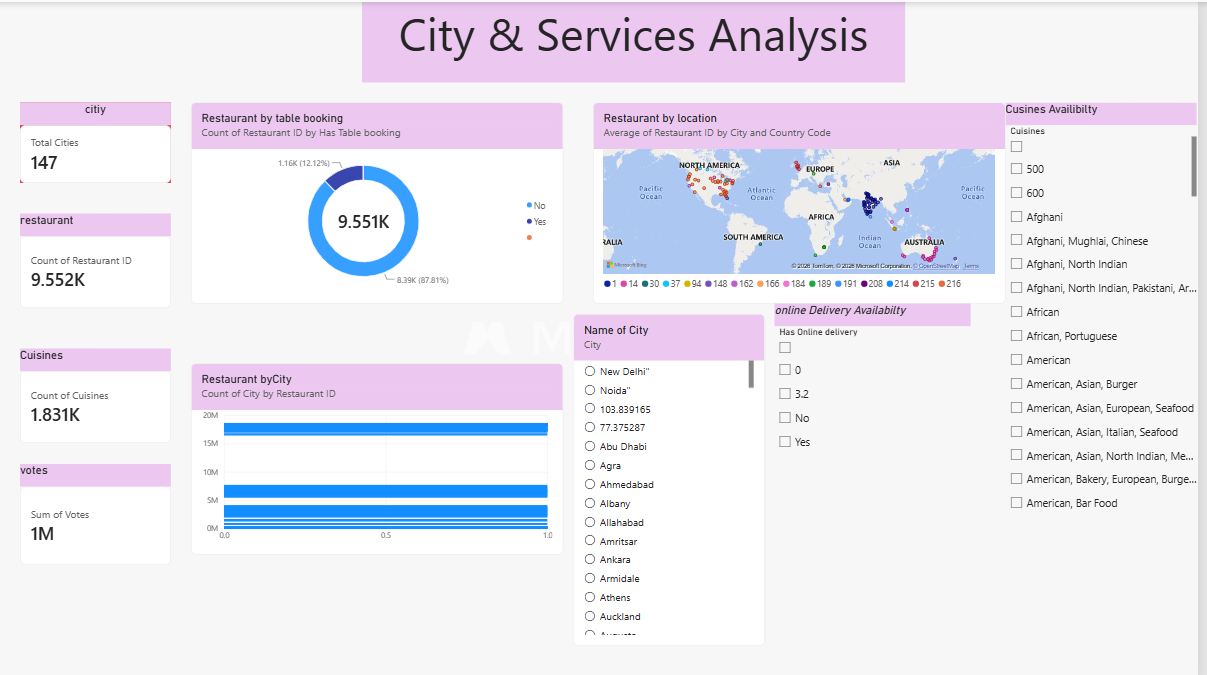

This screenshot's page, from the dashboard's own definition file:
{"tool":"powerbi","page":{"name":"City & Services Analysis","canvas":[1920,1080],"ordinal":2},"visuals":[{"type":"textbox","box":[592,0,864,128],"z":0},{"type":"cardVisual","title":"citiy","fields":{"Data":["zomato.Total Cities"]},"box":[48,160,240,128],"z":1000},{"type":"cardVisual","title":"restaurant","fields":{"Data":["Count(zomato.Restaurant ID)"]},"box":[48,336,240,150],"z":2000},{"type":"cardVisual","title":"Cuisines","fields":{"Data":["Count(zomato.Cuisines)"]},"box":[48,551,240,150],"z":3000},{"type":"donutChart","title":" Restaurant by table booking","fields":{"Category":["zomato.Has Table booking"],"Y":["CountNonNull(zomato.Restaurant ID)"]},"box":[320,160,592,320],"z":4000},{"type":"cardVisual","title":"votes","fields":{"Data":["Sum(zomato.Votes)"]},"box":[48,736,240,160],"z":5000},{"type":"map","title":" Restaurant by location","fields":{"Category":["zomato.City"],"Y":["Avg(zomato.Restaurant ID)"],"Series":["zomato.Country Code"]},"box":[960,160,656,320],"z":6000},{"type":"clusteredBarChart","title":"Restaurant byCity","fields":{"Category":["zomato.Restaurant ID"],"Y":["CountNonNull(zomato.City)"]},"box":[320,576,592,304],"z":7000},{"type":"listSlicer","title":" Name of City","fields":{"Values":["zomato.City"]},"box":[928,496,304,528],"z":8000},{"type":"slicer","title":"online Delivery Availabilty","fields":{"Values":["zomato.Has Online delivery"]},"box":[1248,480,312,408],"z":9000},{"type":"slicer","title":" Cusines Availibilty ","fields":{"Values":["zomato.Cuisines"]},"box":[1616,160,304,656],"z":10000}]}

Visuals, with their boxes in screenshot pixels (x1, y1, x2, y2), scaled from the page's 1920x1080 canvas onto the 1207x675 screenshot:
textbox: [372,0,915,80]
"citiy" cardVisual: [30,100,181,180]
"restaurant" cardVisual: [30,210,181,304]
"Cuisines" cardVisual: [30,344,181,438]
" Restaurant by table booking" donutChart: [201,100,573,300]
"votes" cardVisual: [30,460,181,560]
" Restaurant by location" map: [604,100,1016,300]
"Restaurant byCity" clusteredBarChart: [201,360,573,550]
" Name of City" listSlicer: [583,310,774,640]
"online Delivery Availabilty" slicer: [785,300,981,555]
" Cusines Availibilty " slicer: [1016,100,1206,510]
